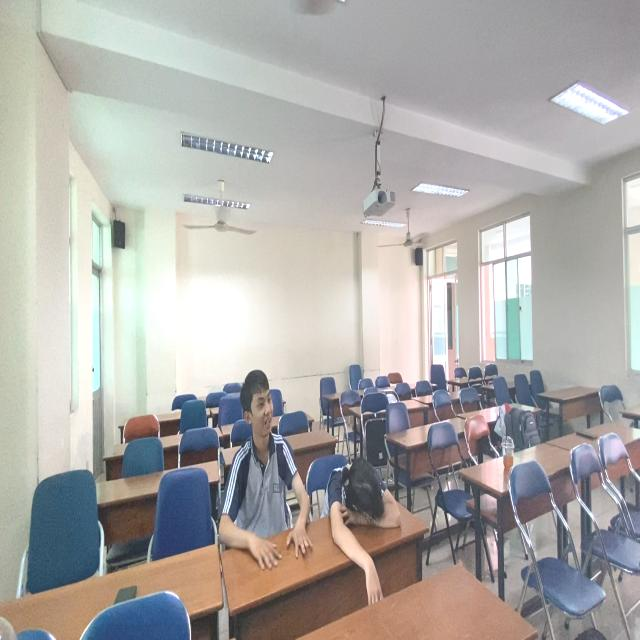sleep: (325, 452, 403, 537)
